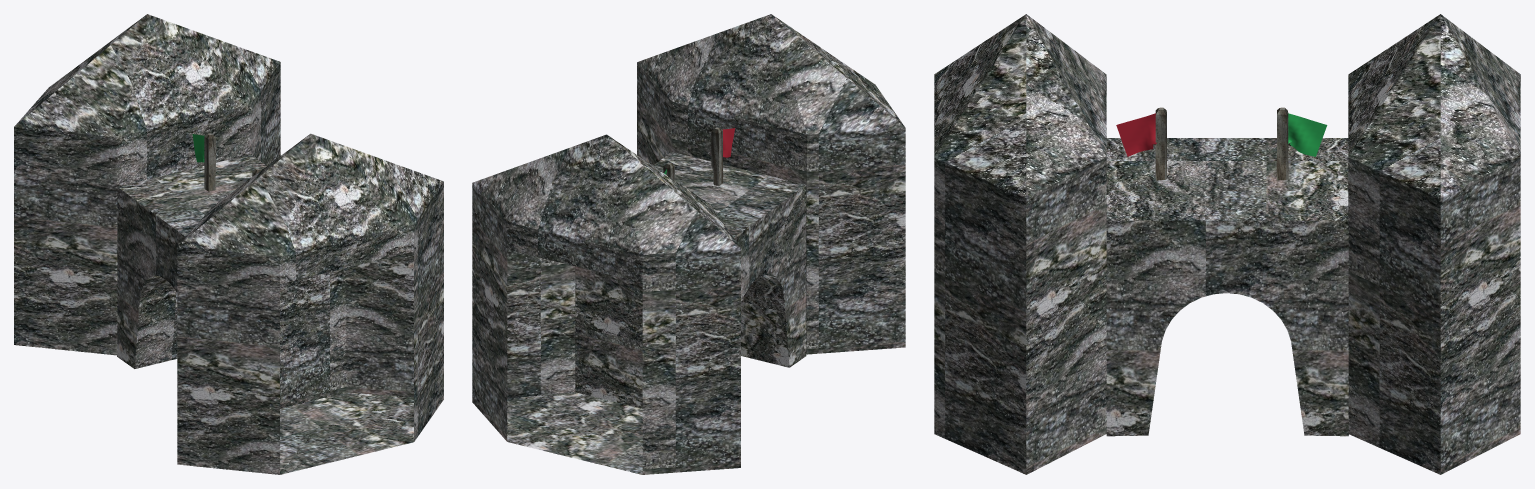
The model's file is wots the deal.fbx.
3 renders of one model, left to right at view 1: azimuth 30°, elevation 25°; view 2: azimuth 150°, elevation 25°; view 3: azimuth 270°, elevation 25°, orthographic. The views are drawn at different scales.
Visible parts, largest first — view 1: Cube.001, Cube.003; view 2: Cube.001, Cube.002; view 3: Cube.001, Plane.001, Plane.003, Cube.003, Cube.002.
Part boxes in pixels (x1,y1,x2,y2): Cube.001: [14, 14, 443, 474]; Cube.003: [204, 133, 215, 191]; Cube.001: [472, 14, 905, 474]; Cube.002: [711, 127, 723, 185]; Cube.001: [934, 14, 1520, 474]; Plane.001: [1116, 113, 1156, 156]; Plane.003: [1288, 113, 1327, 156]; Cube.003: [1276, 107, 1288, 180]; Cube.002: [1155, 107, 1166, 180].
Size of the model in its own units: 298 by 321 by 448.
